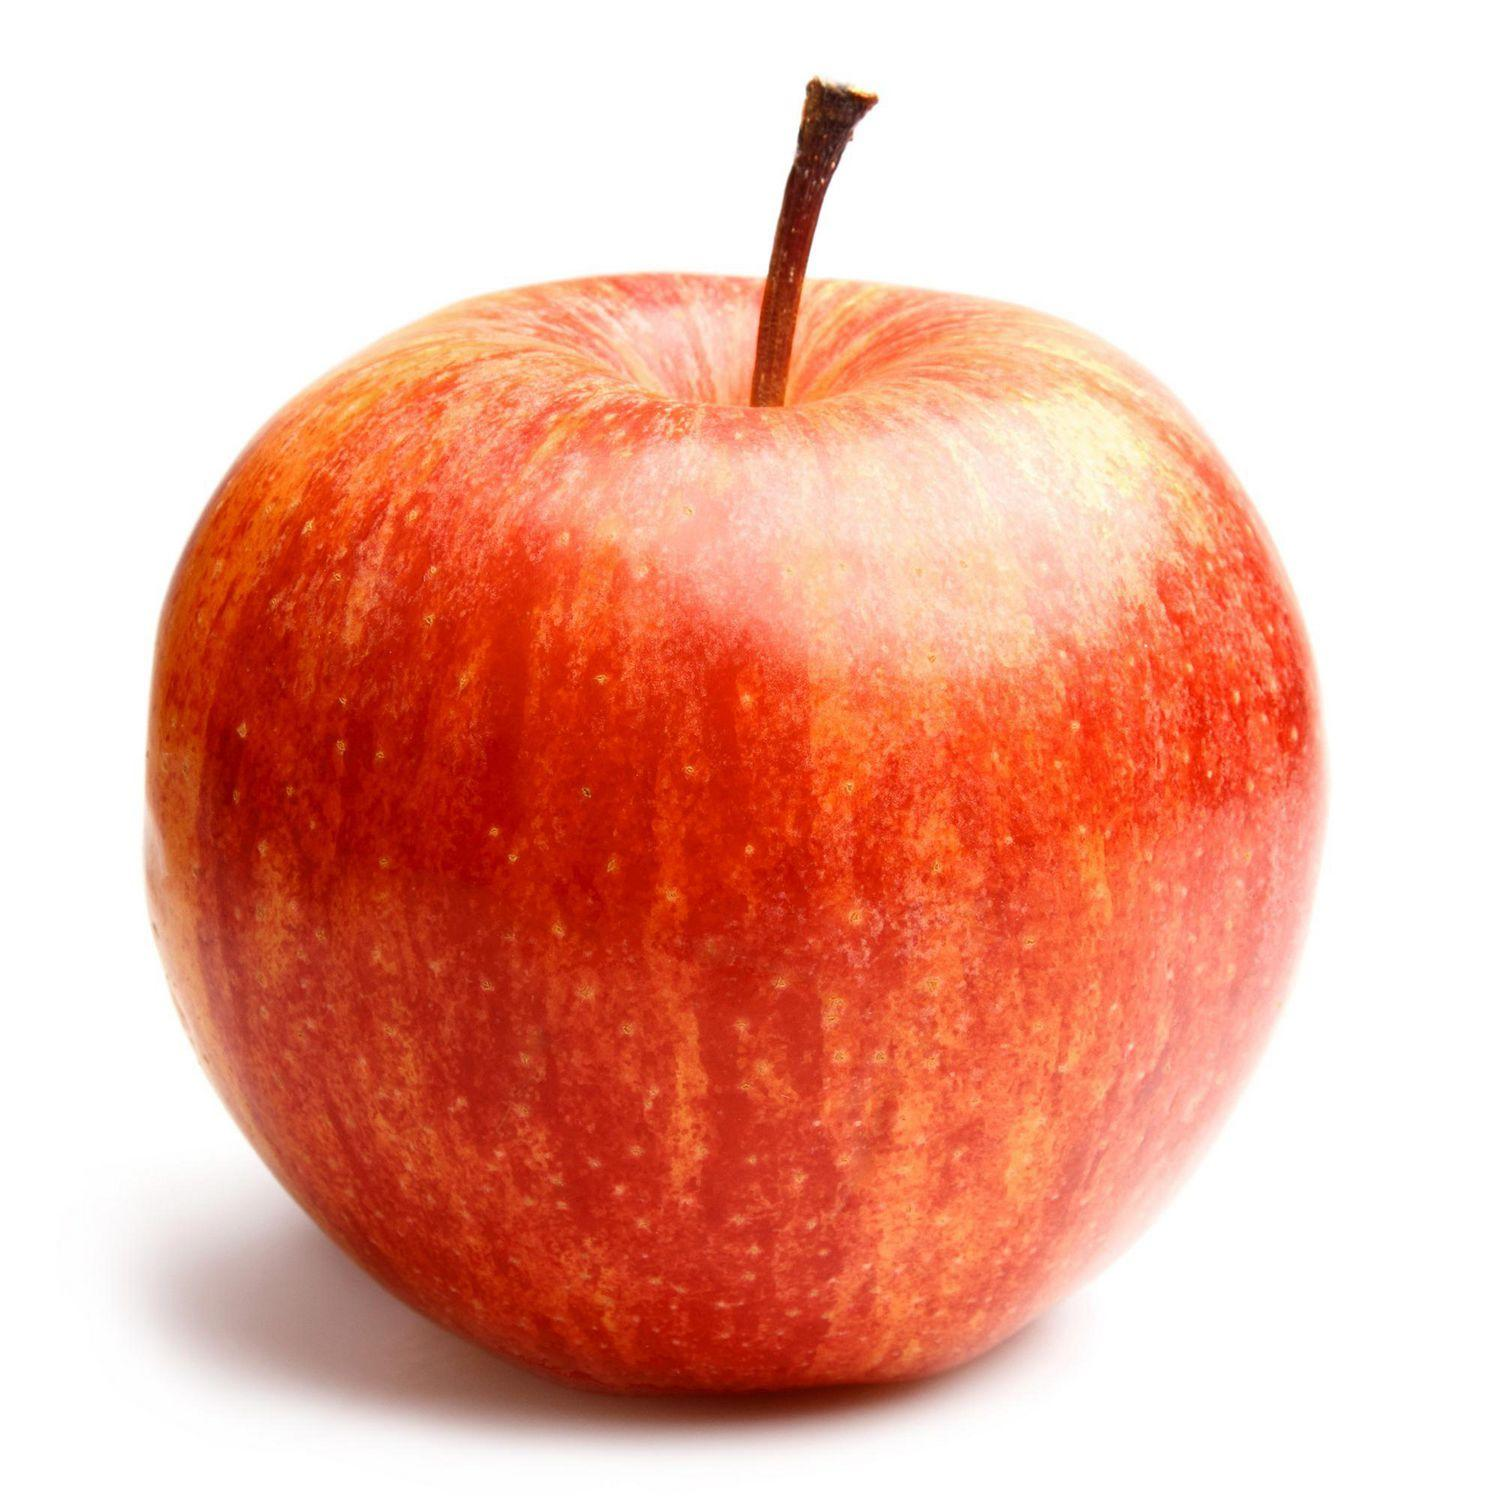Apple: (135, 67, 1352, 1446)
